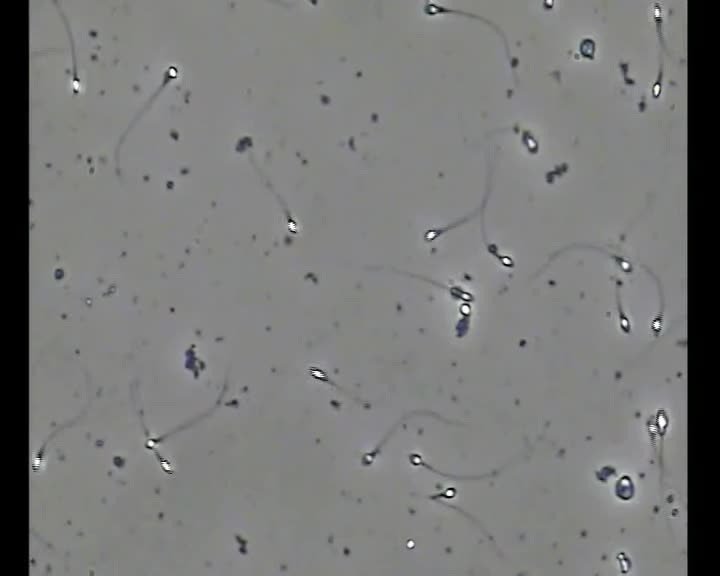spermhead: (648, 408, 668, 440), (615, 475, 634, 500), (521, 130, 538, 153), (578, 37, 595, 59), (595, 464, 615, 482), (616, 552, 631, 574), (30, 445, 45, 466), (424, 2, 447, 15), (455, 316, 469, 337), (163, 64, 179, 82), (615, 256, 631, 273), (618, 312, 630, 333), (653, 5, 664, 27), (70, 74, 82, 94), (362, 450, 377, 465), (315, 369, 330, 384), (287, 215, 300, 232), (649, 314, 660, 334), (408, 452, 423, 466), (425, 227, 441, 240), (440, 486, 456, 499), (650, 80, 661, 98), (460, 289, 474, 303), (458, 302, 471, 317), (499, 255, 513, 268), (156, 453, 168, 468), (145, 436, 157, 450), (486, 243, 497, 255), (542, 0, 553, 10), (407, 538, 415, 550), (615, 278, 623, 288)
